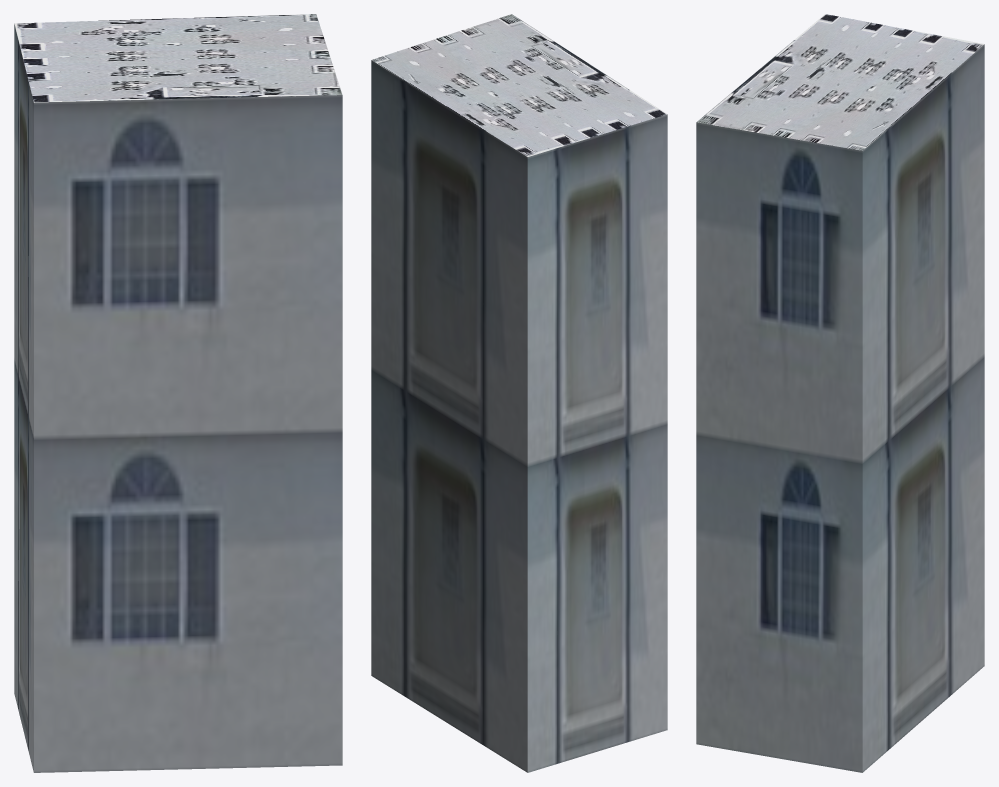
File: ResTex__3254.fbx
The picture shows the model from 3 angles, left to right: view 1: azimuth 30°, elevation 25°; view 2: azimuth 150°, elevation 25°; view 3: azimuth 270°, elevation 25°; orthographic projection. The views are drawn at different scales.
Parts seen in each view (by area): view 1: CityEngineMaterial_17_m, CityEngineMaterial_4_m; view 2: CityEngineMaterial_17_m, CityEngineMaterial_4_m; view 3: CityEngineMaterial_17_m, CityEngineMaterial_4_m.
Part boxes in pixels (<box>): CityEngineMaterial_17_m: <box>14,24,342,772</box>; CityEngineMaterial_4_m: <box>14,14,342,102</box>; CityEngineMaterial_17_m: <box>371,60,667,772</box>; CityEngineMaterial_4_m: <box>372,14,666,156</box>; CityEngineMaterial_17_m: <box>696,44,984,772</box>; CityEngineMaterial_4_m: <box>696,14,984,150</box>.
Bounding box in the file's own units: 2.83 × 6 × 2.52.
2 materials, 2 textured.
